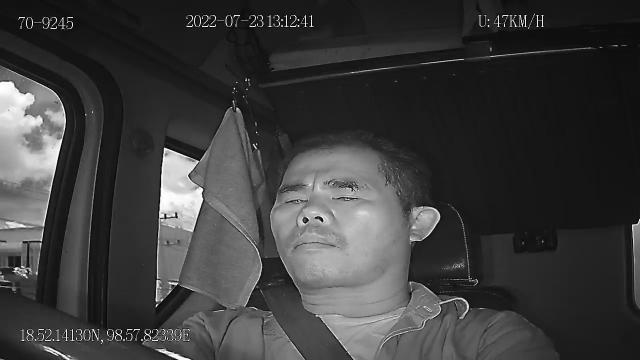SafeDriving: (324, 181, 368, 207), (278, 189, 312, 211)
Seatbelt: (258, 282, 358, 360)
